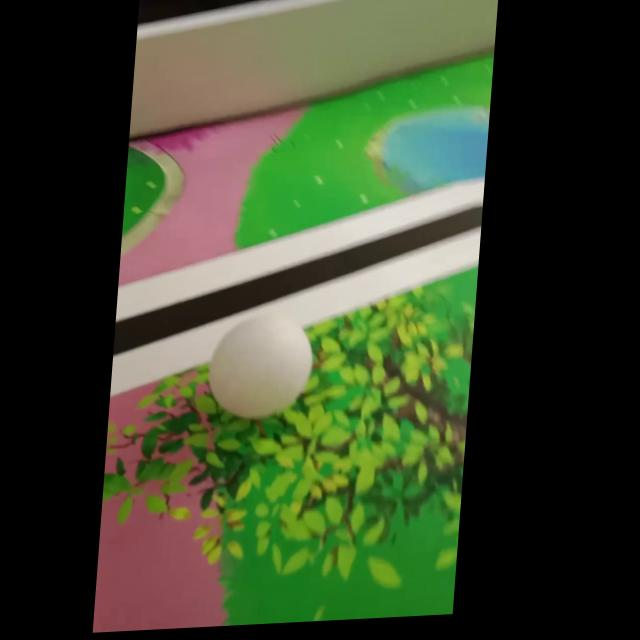white ball: (203, 308, 317, 422)
